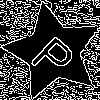P: (28, 26, 84, 83)
